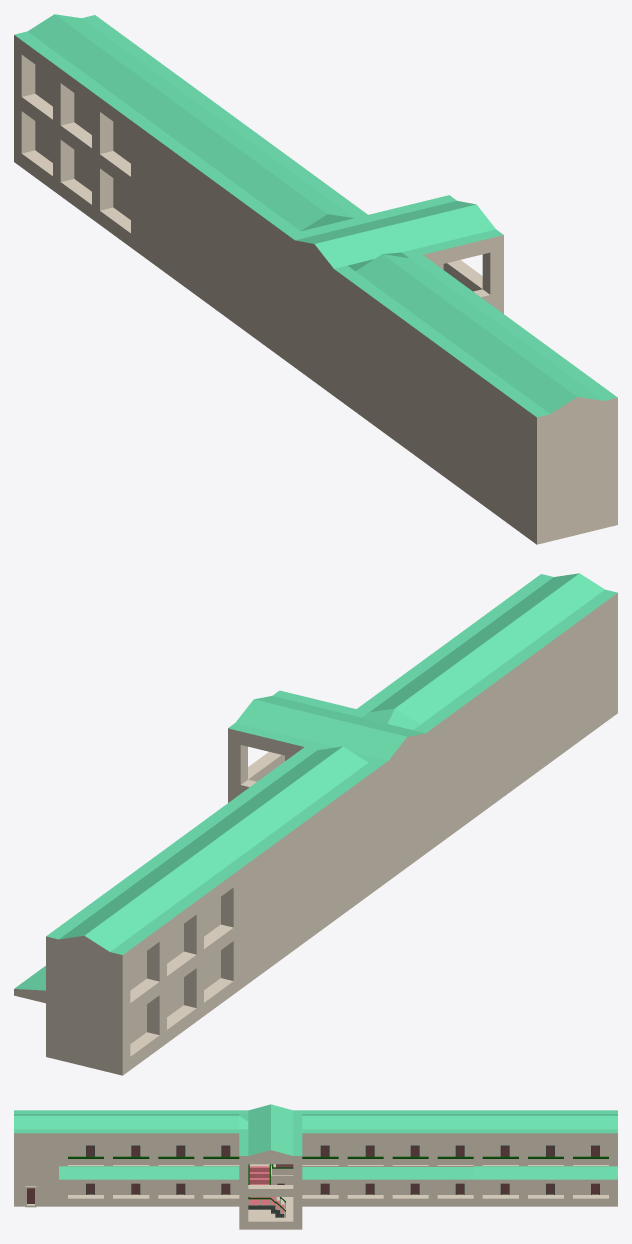
File: CHEfinal.fbx
3 renders of one model, top to bottom at view 1: azimuth 30°, elevation 25°; view 2: azimuth 150°, elevation 25°; view 3: azimuth 270°, elevation 25°, orthographic. The views are drawn at different scales.
Parts seen in each view (by area): view 1: Cube; view 2: Cube; view 3: Cube.
Part boxes in pixels (box(x1,y1,x2,y2)): Cube: box(14, 14, 617, 544); Cube: box(14, 573, 617, 1075); Cube: box(14, 1104, 617, 1229).
Size of the model in its own units: 2400 by 1950 by 13400.
